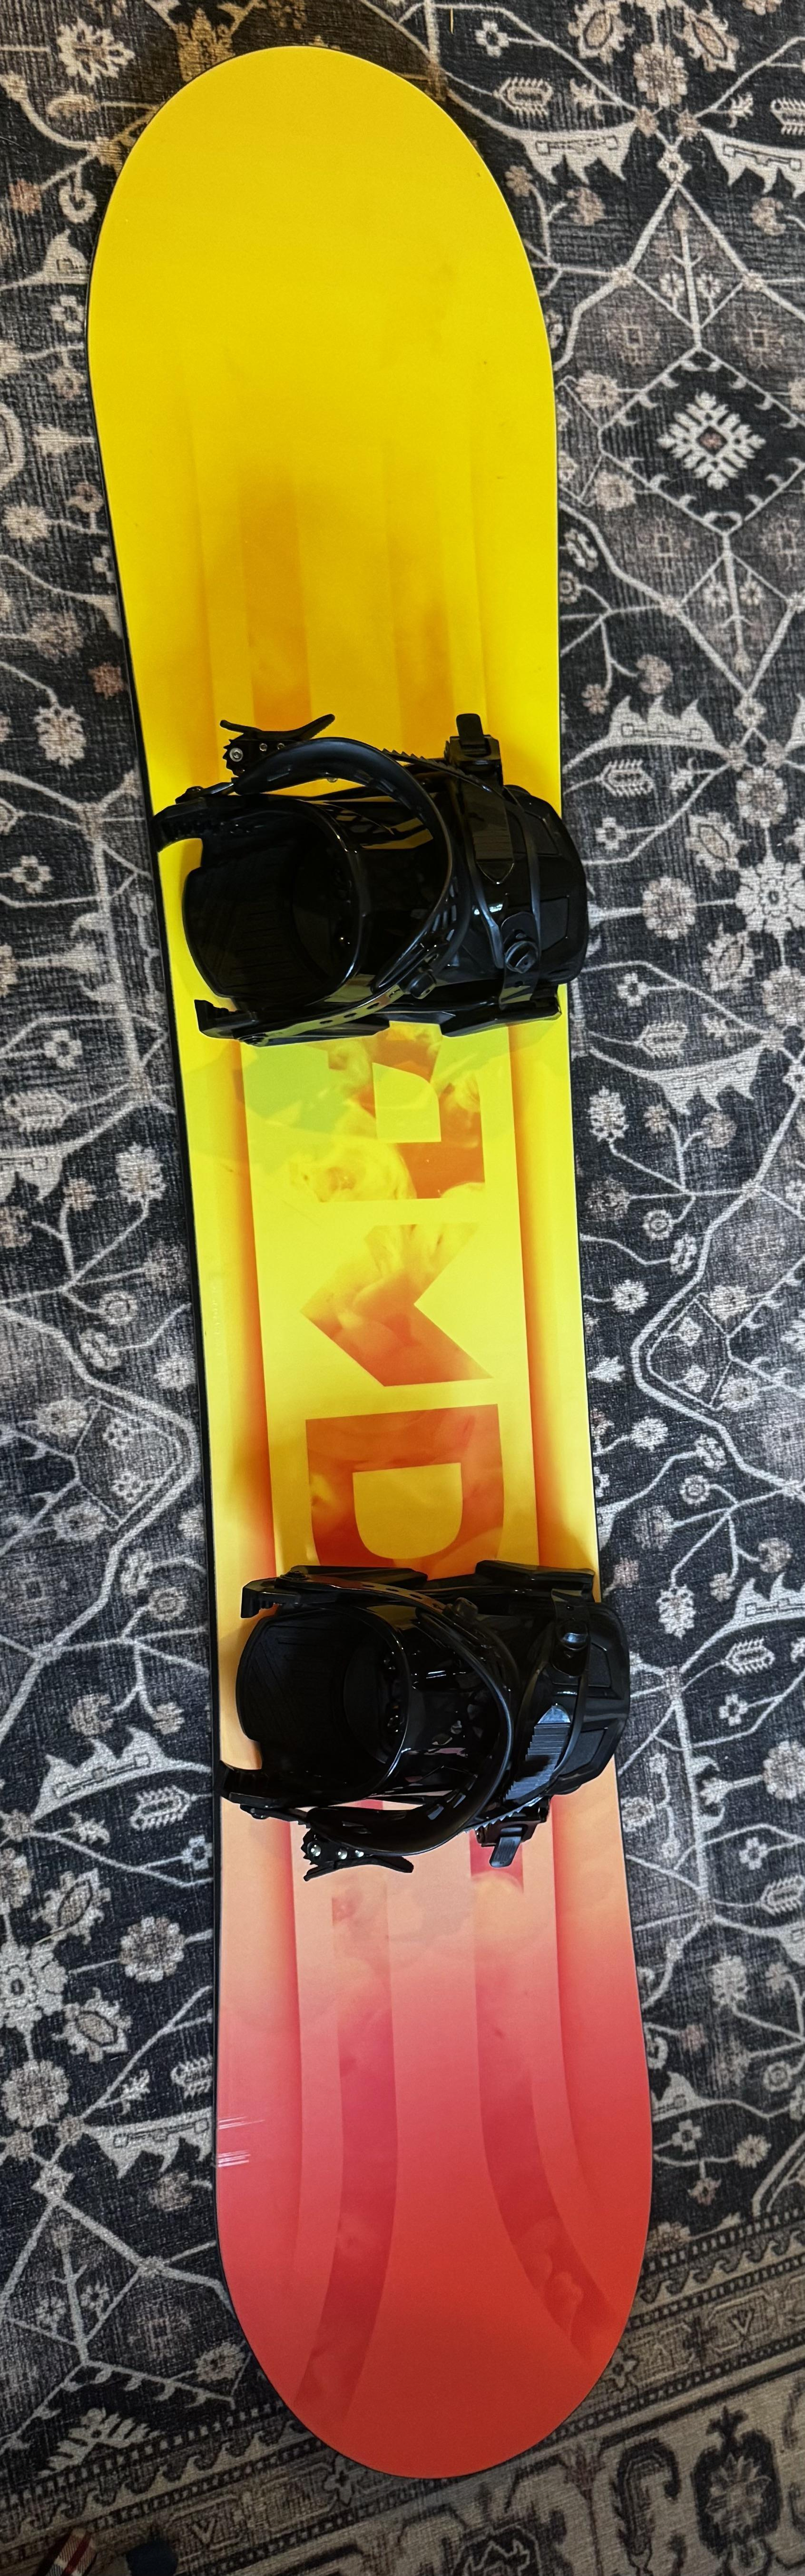Snowboard: (76, 33, 662, 2489)
